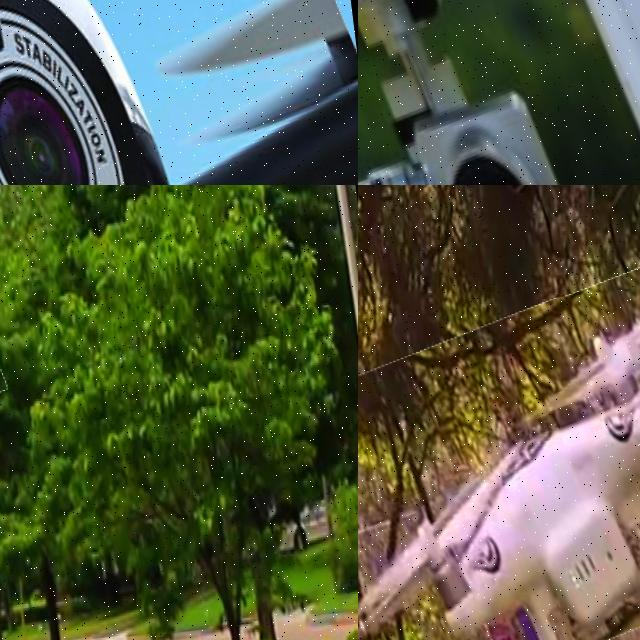0: (358, 0, 640, 185)
drone: (358, 279, 640, 640), (0, 0, 358, 185)
